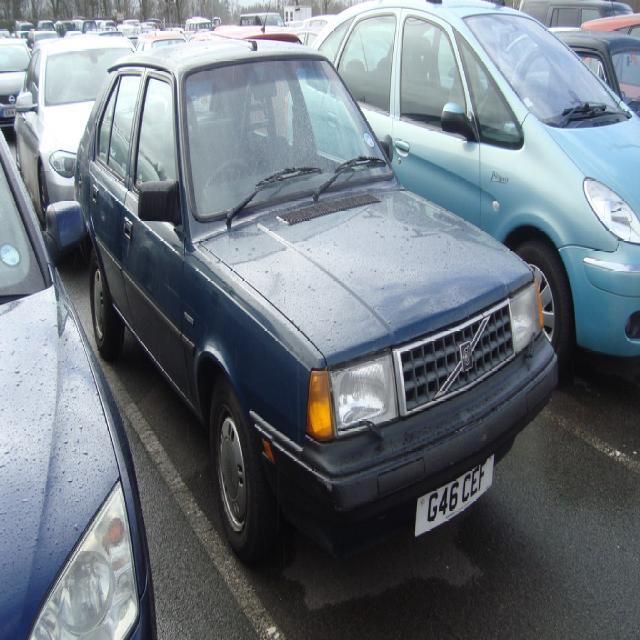car: (75, 31, 565, 612)
